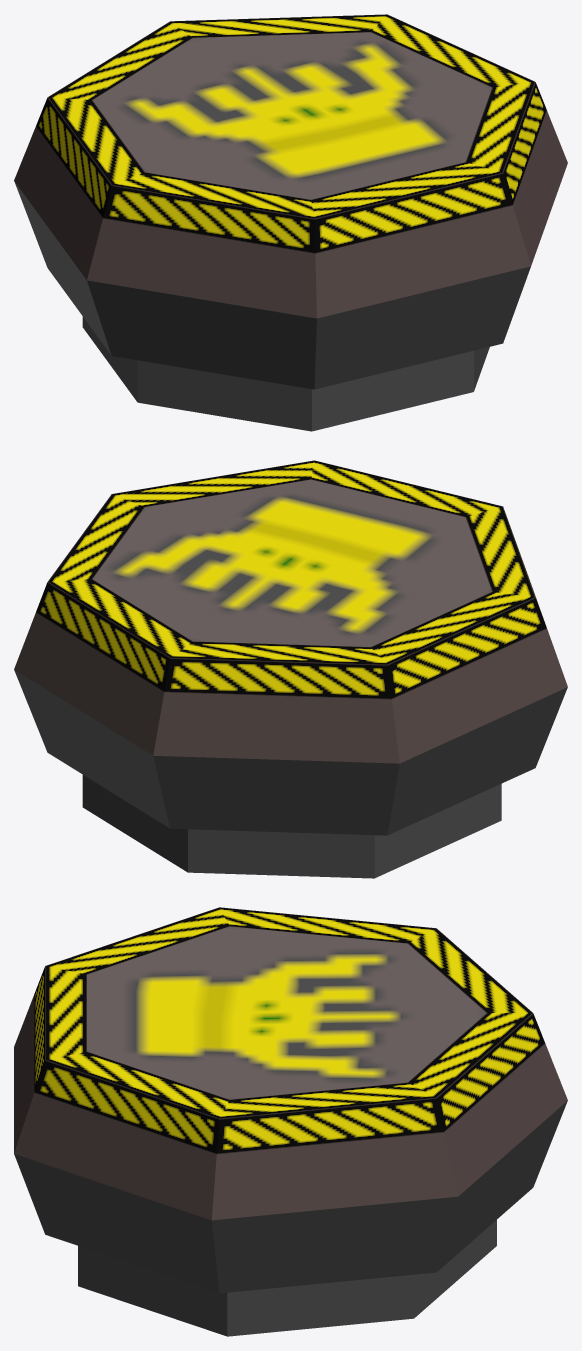
Rendered from Platform_8.fbx.
3 renders of one model, top to bottom at view 1: azimuth 30°, elevation 25°; view 2: azimuth 150°, elevation 25°; view 3: azimuth 270°, elevation 25°, orthographic. The views are drawn at different scales.
Visible parts, largest first — view 1: Platform_8; view 2: Platform_8; view 3: Platform_8.
Boxes of the visible parts, x1=… form: Platform_8: x1=14, y1=14, x2=567, y2=431; Platform_8: x1=14, y1=460, x2=567, y2=878; Platform_8: x1=14, y1=907, x2=567, y2=1336.
Size of the model in its own units: 221 by 100 by 216.
